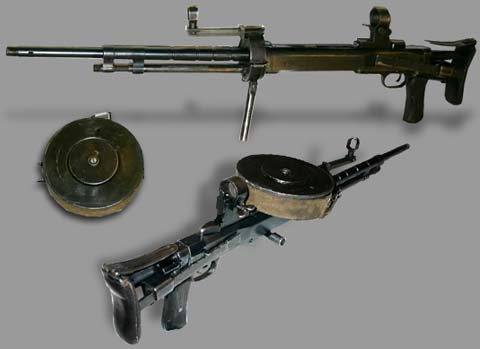rifle: (92, 141, 407, 340), (5, 17, 473, 136)
